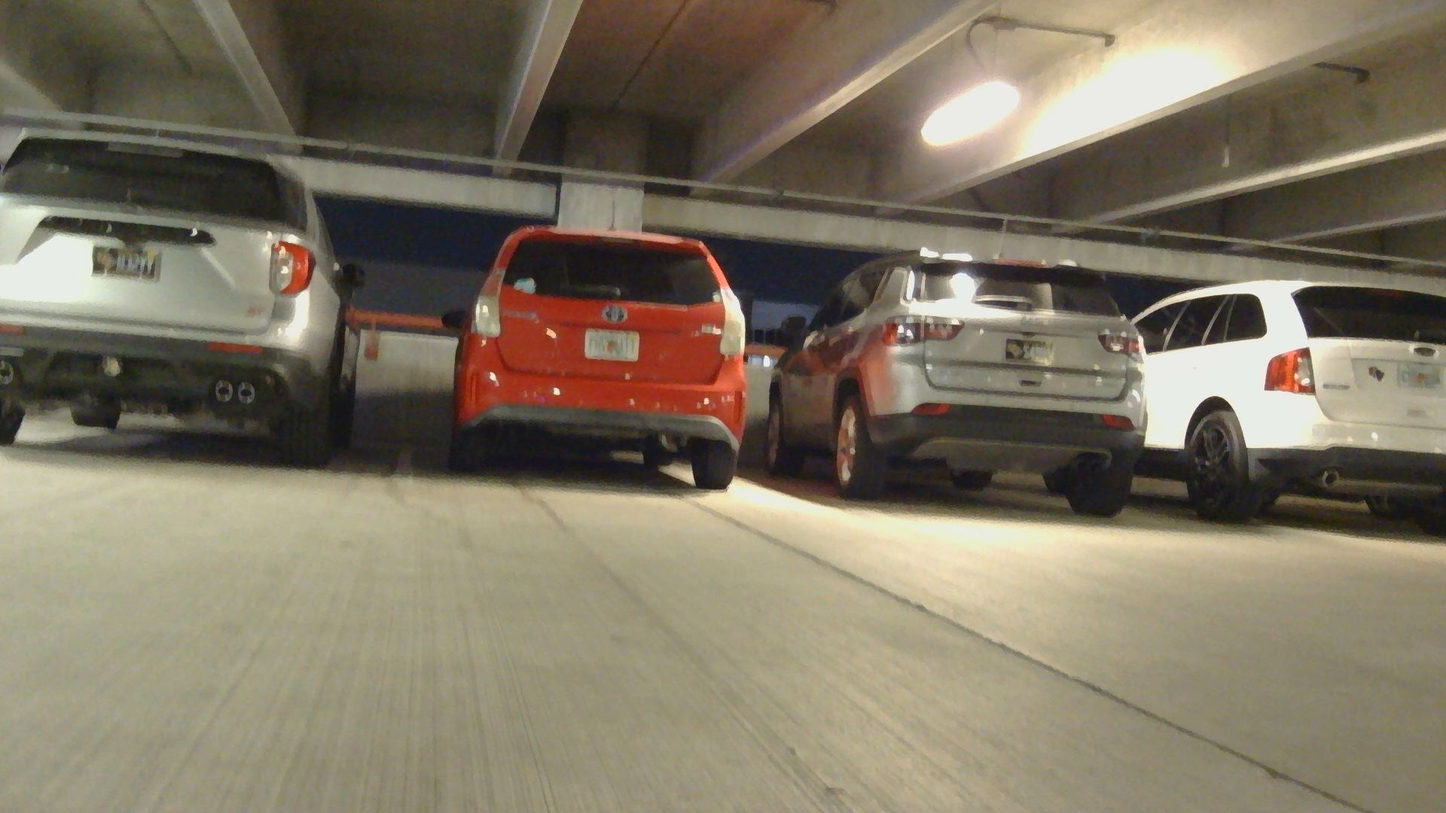occupied_spot: (0, 131, 374, 463), (760, 242, 1149, 518), (448, 226, 750, 491), (1142, 274, 1446, 534)
